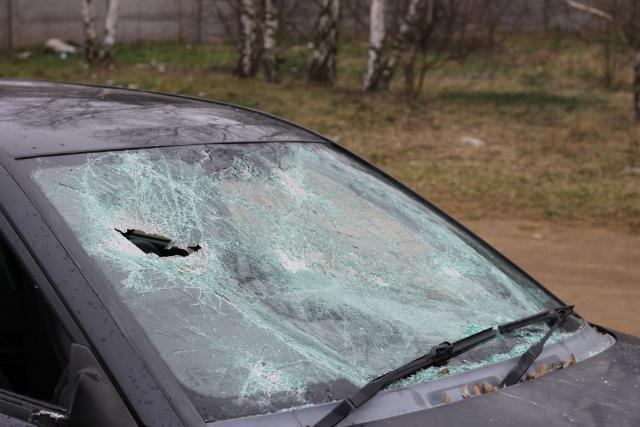Windshield: (18, 140, 593, 426)
